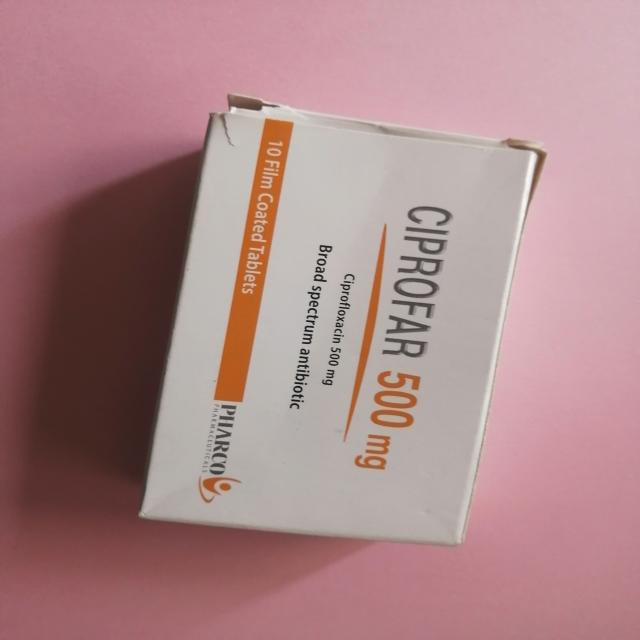Medicine: (129, 88, 546, 544)
